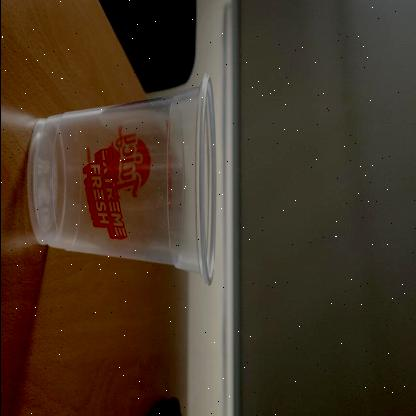Others: (25, 71, 218, 285)
